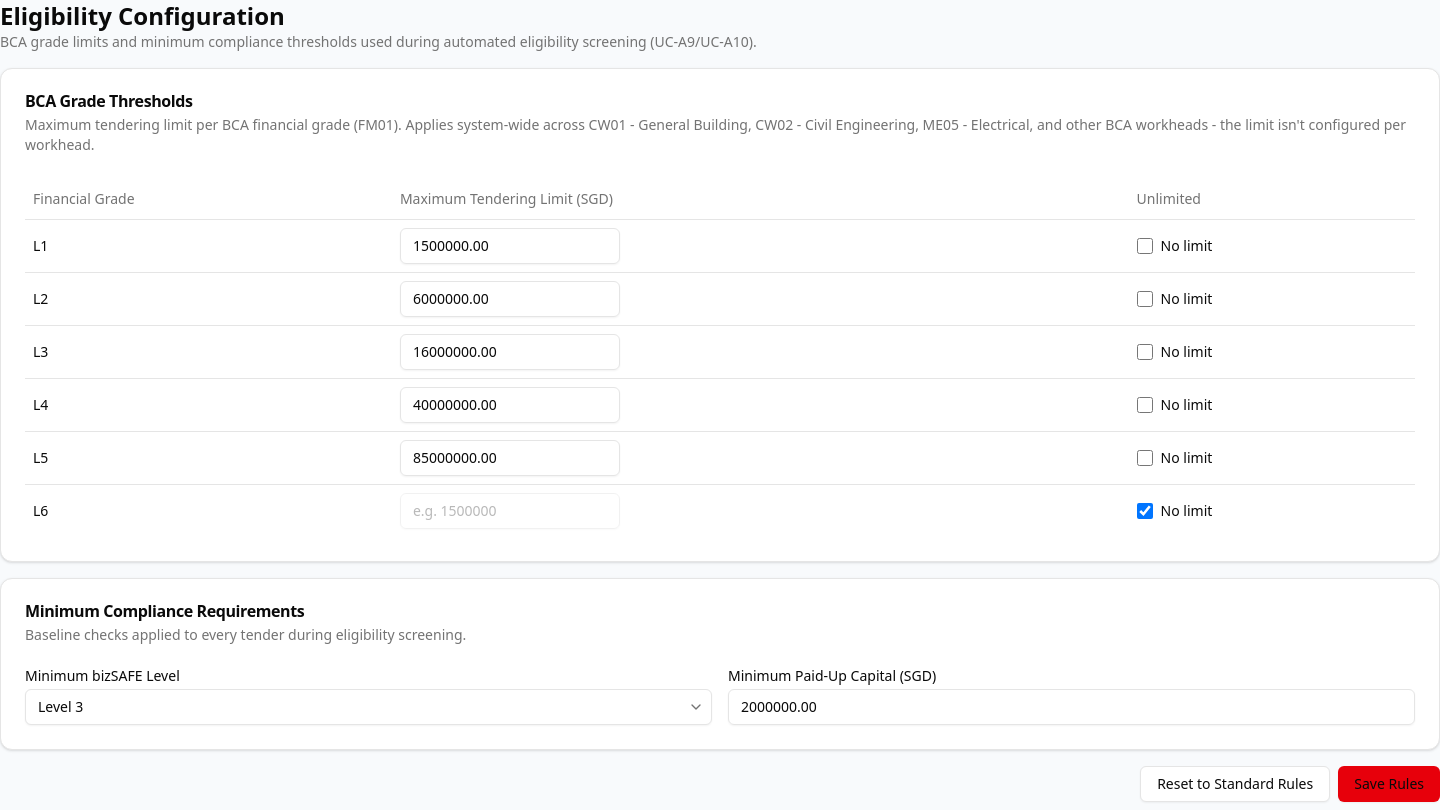
Test: EligibilityConfigPage (Zheng Hong) › resets the form back to the standard defaults when confirmed
Replace the text in the number field labelled "Minimum Paid-Up Capital (SGD)" with "999" at coordinates (1072, 706), box top-left (728, 688), bottom-right (1415, 724)
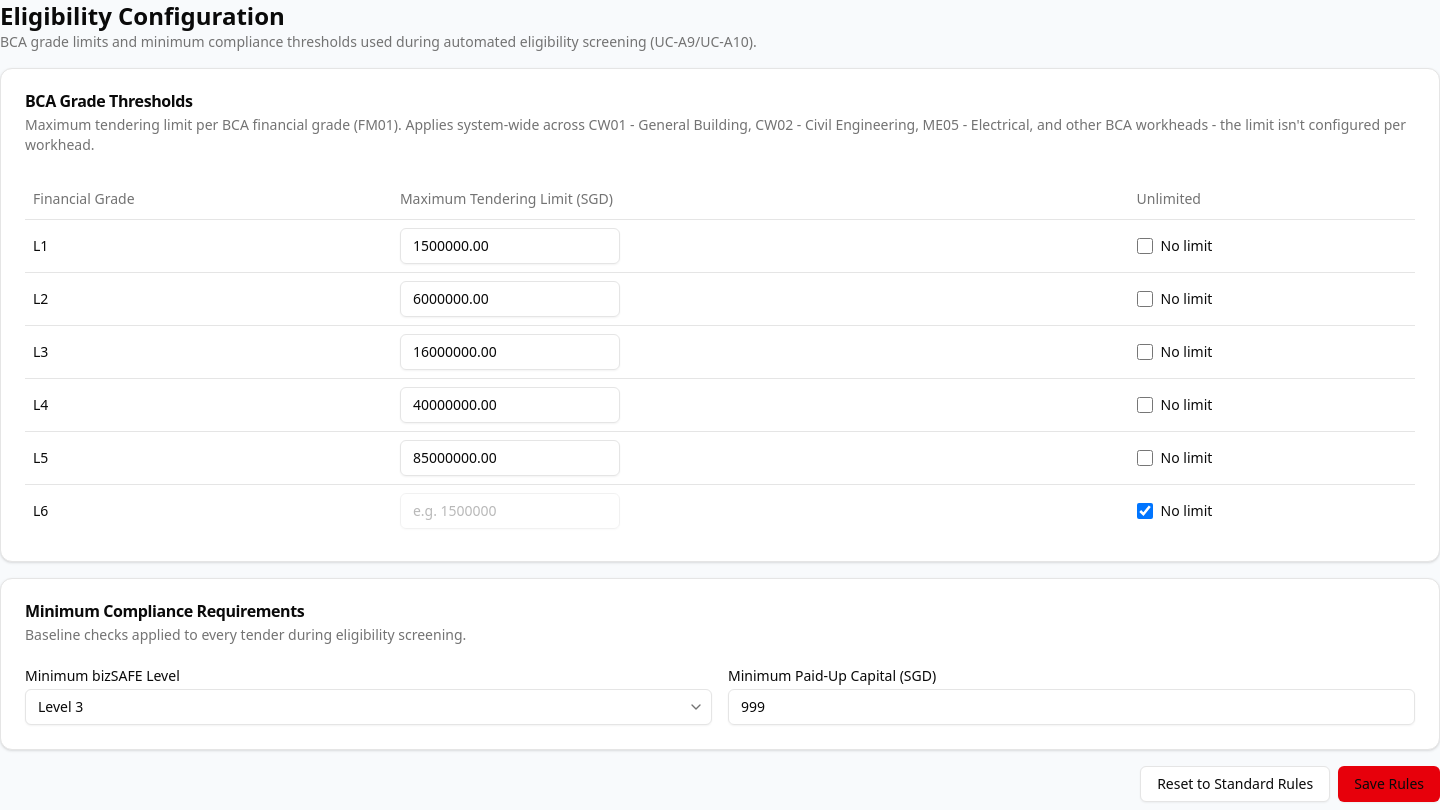
Click the button "Reset to Standard Rules" at coordinates (1235, 784), box top-left (1140, 766), bottom-right (1330, 802)
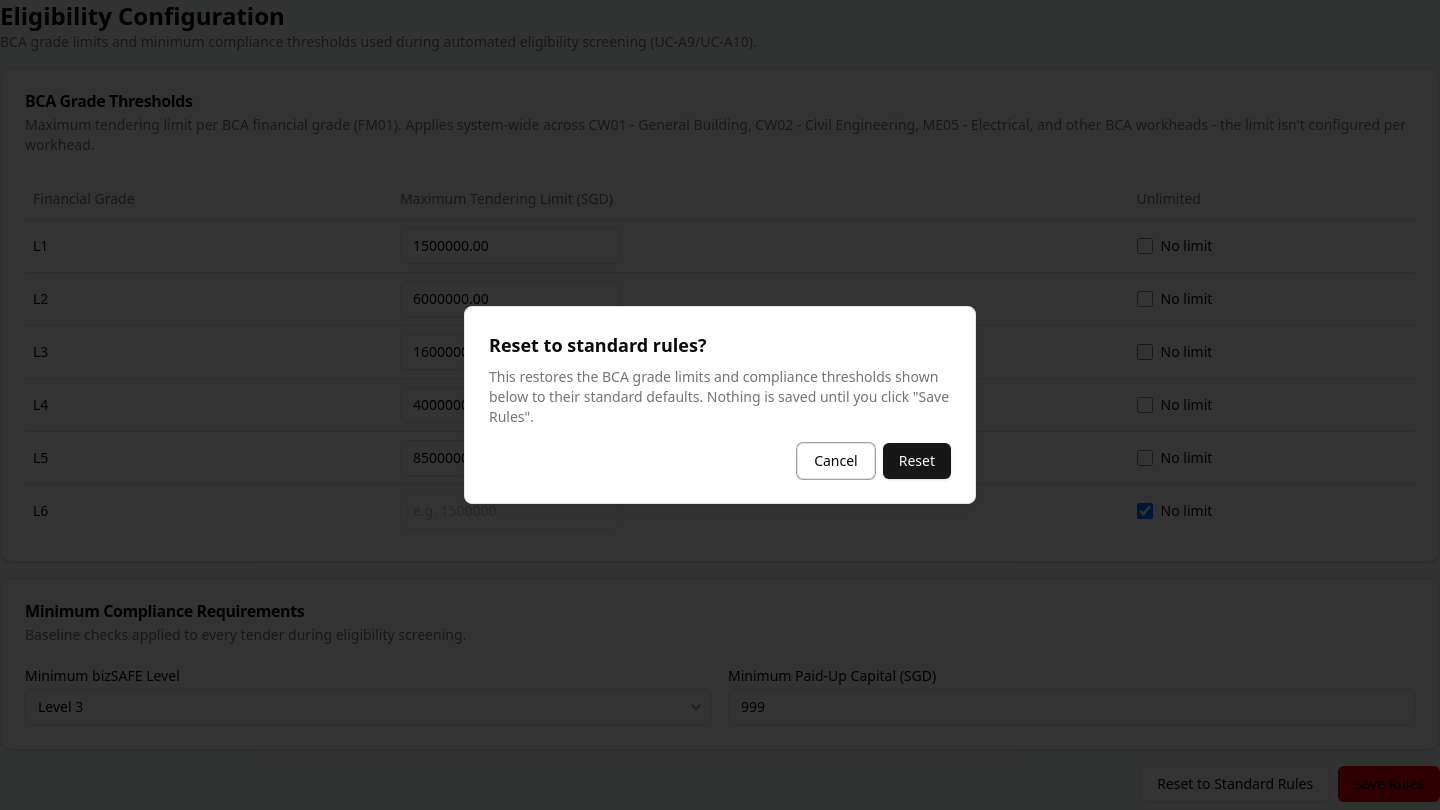
Click the button "Reset" at coordinates (917, 461), box top-left (883, 443), bottom-right (951, 479)
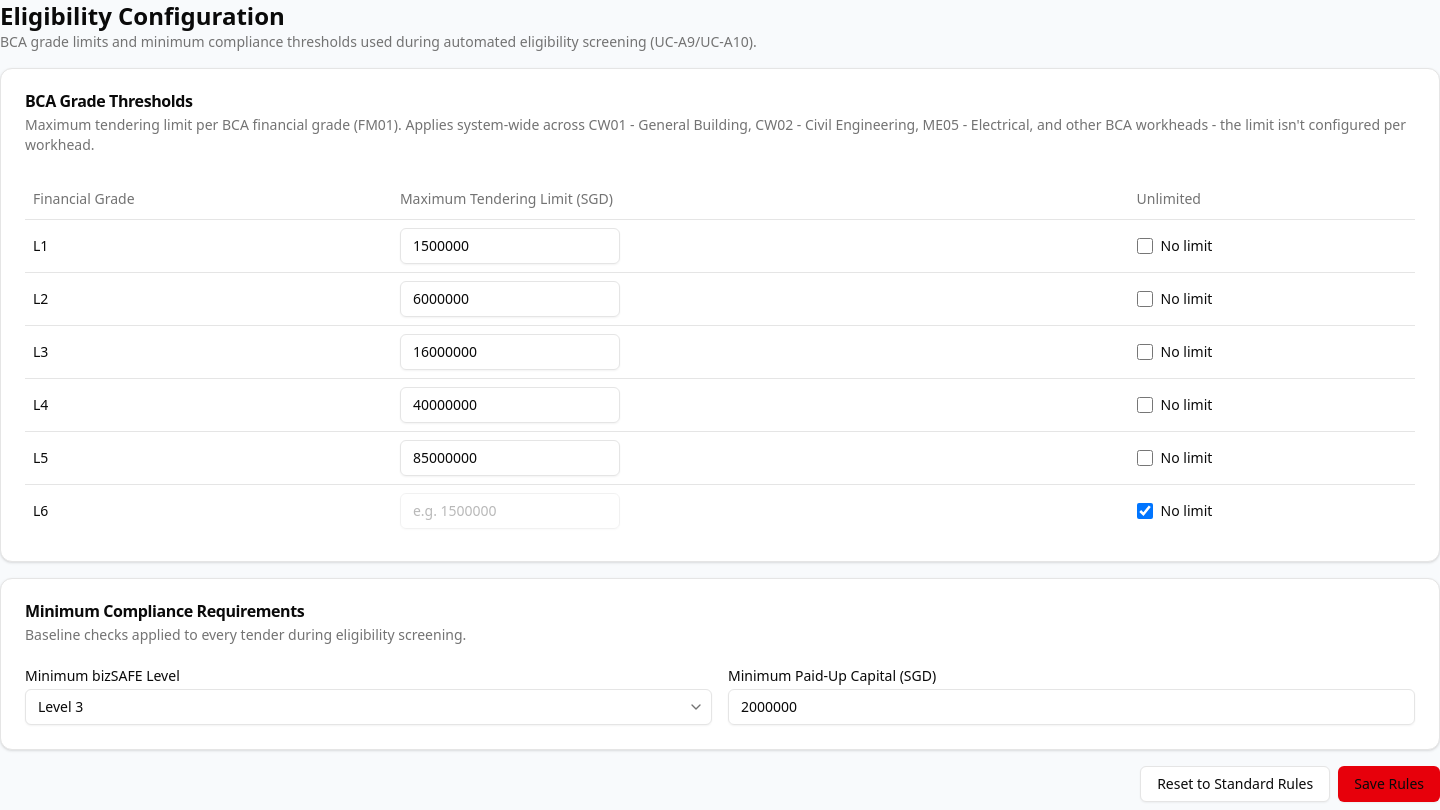
Now the number field labelled "Minimum Paid-Up Capital (SGD)" holds "2000000", box top-left (728, 688), bottom-right (1415, 724)
